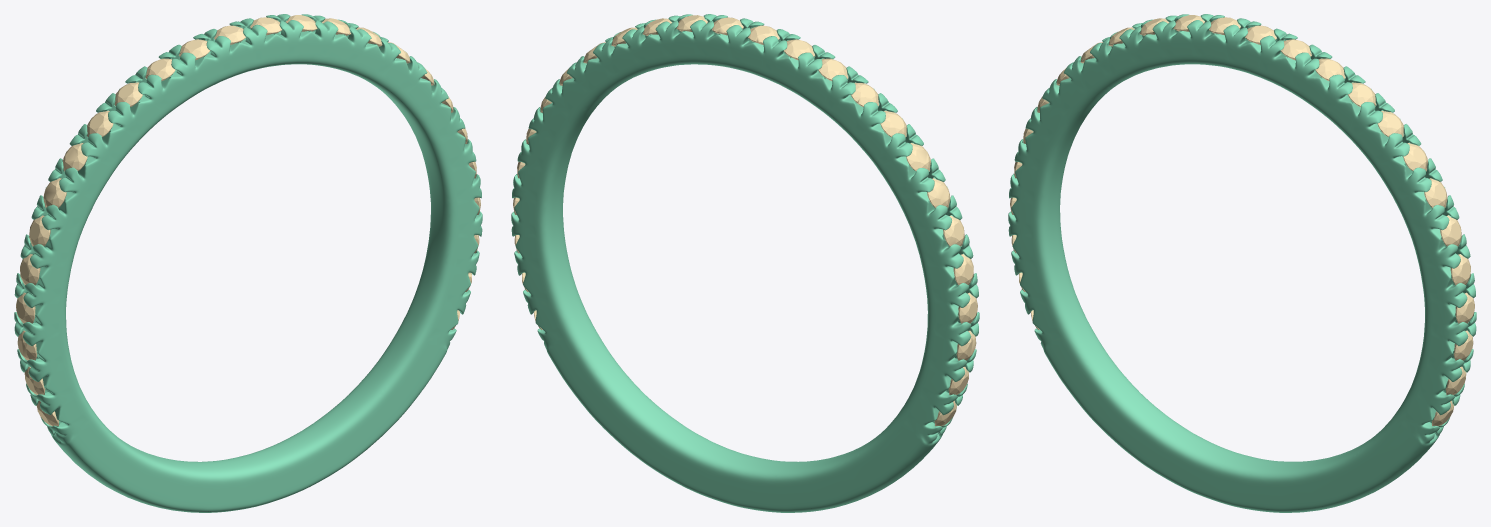
3 renders of one model, left to right at view 1: azimuth 30°, elevation 25°; view 2: azimuth 150°, elevation 25°; view 3: azimuth 330°, elevation 25°, orthographic.
Visible parts, largest first — view 1: Metal02; view 2: Metal02; view 3: Metal02.
Part boxes in pixels (x1=…): Metal02: x1=14, y1=14, x2=482, y2=512; Metal02: x1=511, y1=14, x2=979, y2=512; Metal02: x1=1008, y1=14, x2=1476, y2=512.
Size of the model in its own units: 19.98 by 20.04 by 1.61.
